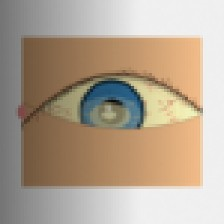corneal_ulcer: (76, 89, 144, 143)
